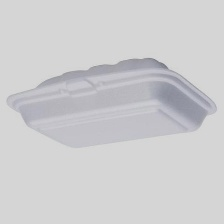foam_box: (0, 52, 224, 153)
